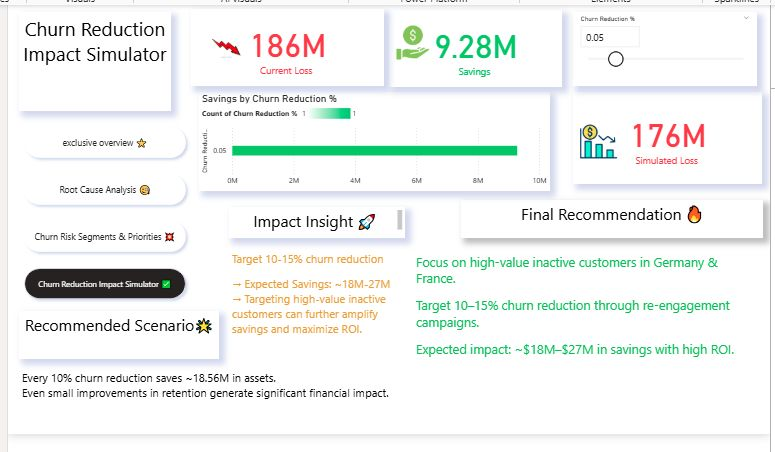

Layout of this report page (visuals, bound fields, positions):
{"tool":"powerbi","page":{"name":"Churn Reduction Impact Simulator ✅","canvas":[1280,720],"ordinal":3},"visuals":[{"type":"slicer","fields":{"Values":["Churn Reduction %.Churn Reduction %"]},"box":[949.6,12.3,308.7,124.9],"z":0},{"type":"card","fields":{"Values":["churn.Current Loss"]},"box":[307.4,6.7,324.2,129.3],"z":1000},{"type":"card","fields":{"Values":["churn.Simulated Loss"]},"box":[949.6,146.8,318.4,153.7],"z":2000},{"type":"card","fields":{"Values":["churn.Savings"]},"box":[639.5,8.2,290.9,129],"z":3000},{"type":"textbox","box":[17.8,12.3,255.2,166],"z":4000},{"type":"textbox","box":[370.5,338.9,296.4,52.1],"z":5000},{"type":"textbox","box":[17.8,607.9,649.1,97.4],"z":6000},{"type":"textbox","box":[17.8,513.2,336.2,79.6],"z":7000},{"type":"textbox","box":[370.5,407.5,296.4,185.2],"z":8000},{"type":"textbox","box":[680.6,411.7,587.3,282.7],"z":9000},{"type":"textbox","box":[760.2,328,507.7,63.1],"z":10000},{"type":"barChart","fields":{"Category":["Churn Reduction %.Churn Reduction %"],"Y":["churn.Savings"]},"box":[321.1,146.8,588.7,166],"z":11000},{"type":"pageNavigator","box":[17.8,196.2,289.5,306],"z":12000},{"type":"image","box":[320.8,28.6,92.4,87.3],"z":12001},{"type":"image","box":[646.7,28.6,67.2,68.9],"z":12002},{"type":"image","box":[949.1,193.2,85.7,72.2],"z":12003}]}

Visuals, with their boxes on the page's 1280x720 design canvas (x1, y1, x2, y2). These are canvas units, not pixel positions in the 775x452 screenshot, which may show the page scaled, cropped or inside an application window:
slicer - Churn Reduction %.Churn Reduction %: (left=950, top=12, right=1258, bottom=137)
card - churn.Current Loss: (left=307, top=7, right=632, bottom=136)
card - churn.Simulated Loss: (left=950, top=147, right=1268, bottom=300)
card - churn.Savings: (left=640, top=8, right=930, bottom=137)
textbox: (left=18, top=12, right=273, bottom=178)
textbox: (left=370, top=339, right=667, bottom=391)
textbox: (left=18, top=608, right=667, bottom=705)
textbox: (left=18, top=513, right=354, bottom=593)
textbox: (left=370, top=408, right=667, bottom=593)
textbox: (left=681, top=412, right=1268, bottom=694)
textbox: (left=760, top=328, right=1268, bottom=391)
barChart - Churn Reduction %.Churn Reduction % x churn.Savings: (left=321, top=147, right=910, bottom=313)
pageNavigator: (left=18, top=196, right=307, bottom=502)
image: (left=321, top=29, right=413, bottom=116)
image: (left=647, top=29, right=714, bottom=98)
image: (left=949, top=193, right=1035, bottom=265)
